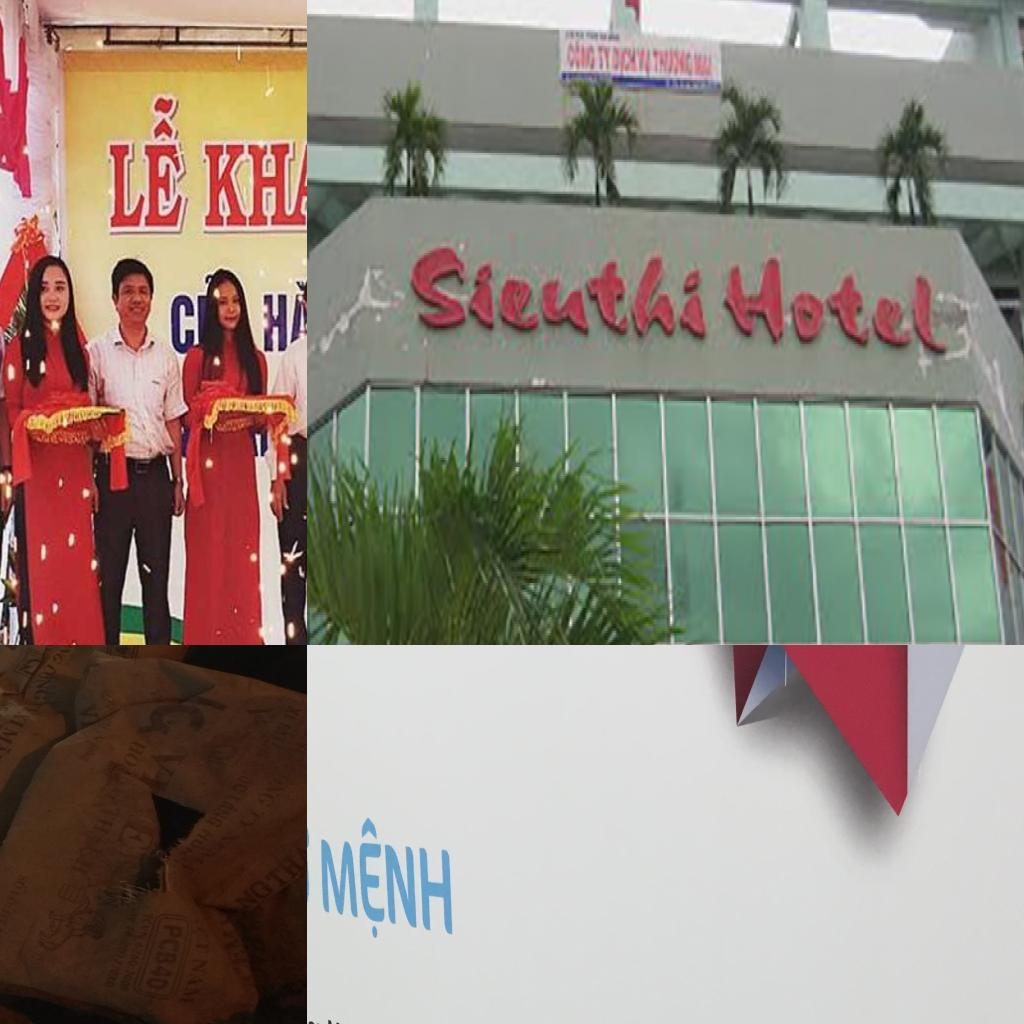text: (405, 226, 716, 353), (316, 820, 456, 947), (106, 93, 188, 237), (201, 138, 307, 235), (228, 841, 307, 911), (261, 274, 307, 356), (142, 923, 187, 994), (134, 750, 194, 798), (111, 814, 161, 856), (201, 792, 250, 832), (174, 956, 212, 1006), (115, 941, 148, 995), (170, 291, 197, 356), (24, 660, 60, 702), (654, 44, 694, 80), (0, 725, 25, 781), (48, 645, 91, 671), (118, 739, 152, 771), (77, 734, 109, 764), (210, 826, 242, 854), (612, 44, 638, 76), (134, 911, 158, 942), (88, 814, 118, 838), (10, 873, 40, 897), (190, 846, 219, 868), (564, 30, 621, 41), (694, 50, 712, 82), (5, 709, 31, 731), (221, 929, 247, 951), (638, 44, 653, 80), (77, 700, 102, 719), (280, 704, 305, 722), (20, 701, 47, 717), (597, 44, 611, 73), (1, 894, 19, 911), (0, 711, 10, 740), (112, 645, 133, 657)
